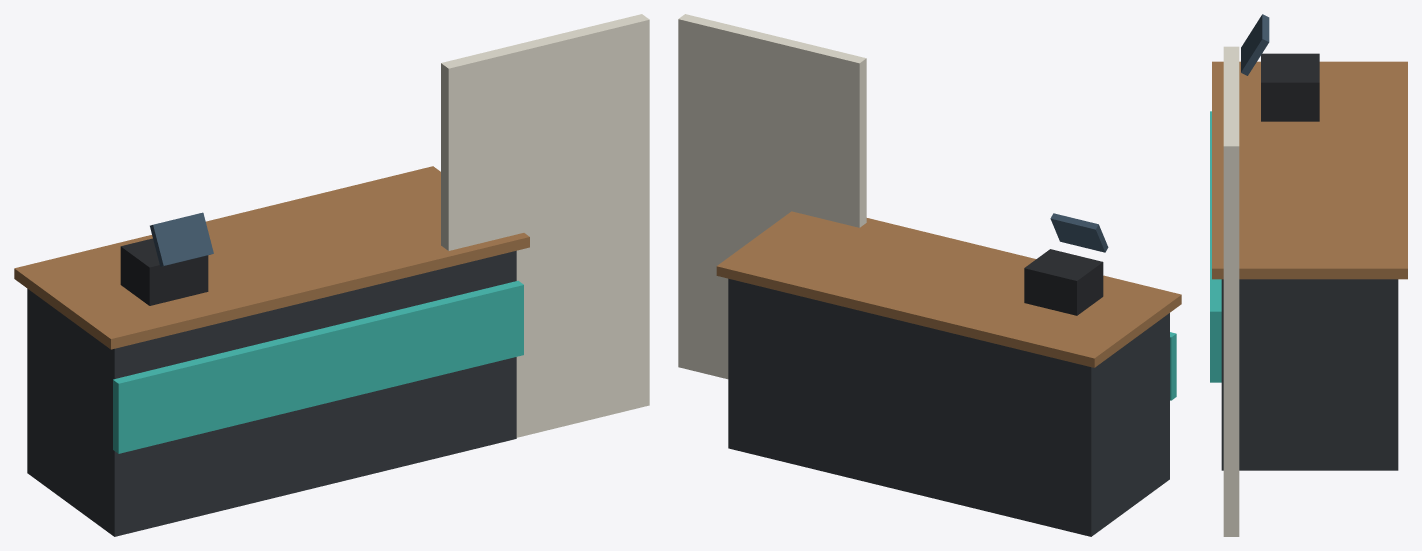
The model's file is interior.reception-desk.glb.
3 views of the same model, side by side, from view 1: azimuth 30°, elevation 25°; view 2: azimuth 150°, elevation 25°; view 3: azimuth 270°, elevation 25° (orthographic). The views are drawn at different scales.
Parts seen in each view (by area): view 1: interior.reception-desk; view 2: interior.reception-desk; view 3: interior.reception-desk.
Boxes of the visible parts, x1,y1,x2,y2 form: interior.reception-desk: (14, 14, 649, 536); interior.reception-desk: (678, 14, 1181, 536); interior.reception-desk: (1210, 14, 1407, 536).
Size of the model in its own units: 3.25 by 2.2 by 1.01.
